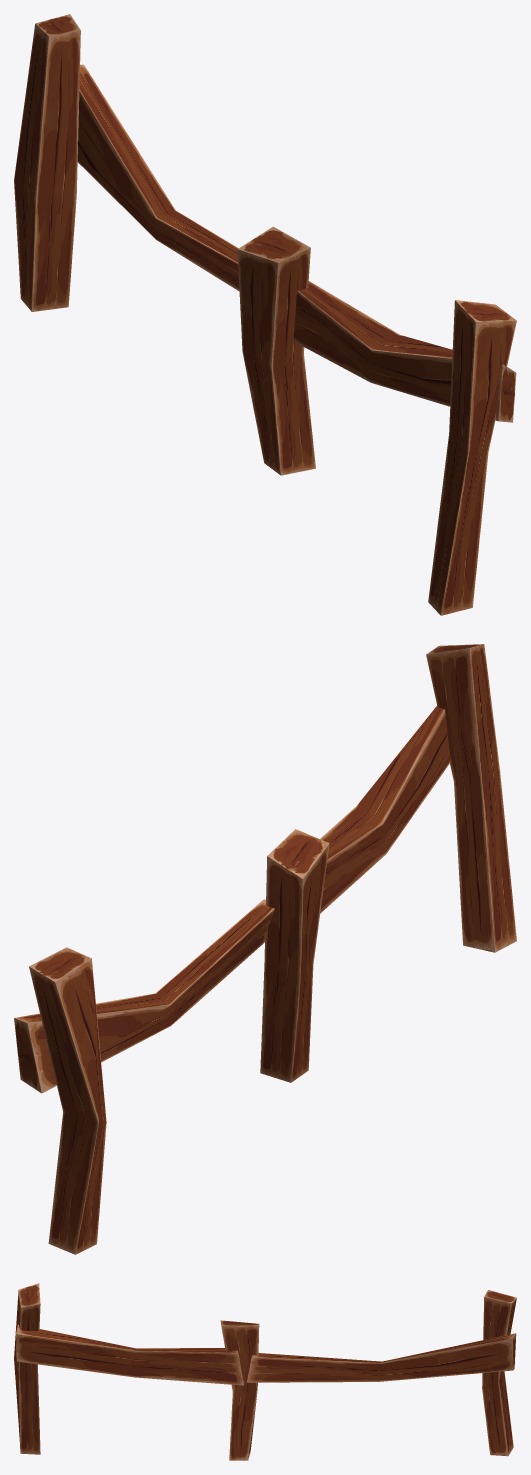
File: barriere-bois-2.glb
The picture shows the model from 3 angles, top to bottom: view 1: azimuth 30°, elevation 25°; view 2: azimuth 150°, elevation 25°; view 3: azimuth 270°, elevation 25°; orthographic projection. The views are drawn at different scales.
Parts seen in each view (by area): view 1: SM_PROP_railing_v01_02; view 2: SM_PROP_railing_v01_02; view 3: SM_PROP_railing_v01_02.
Boxes of the visible parts, x1=… form: SM_PROP_railing_v01_02: x1=14, y1=14, x2=516, y2=615; SM_PROP_railing_v01_02: x1=14, y1=644, x2=516, y2=1254; SM_PROP_railing_v01_02: x1=14, y1=1283, x2=516, y2=1460.
Size of the model in its own units: 0.336 by 1.16 by 3.1.
Materials: 1 (1 with a texture image).
